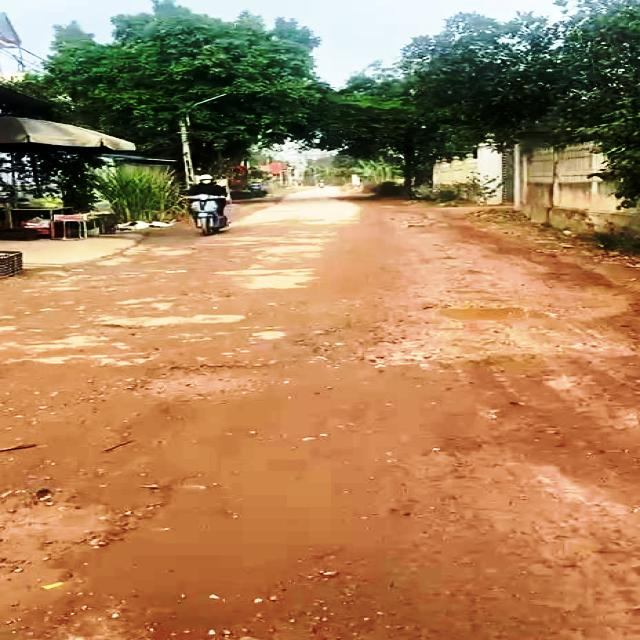pothole: (136, 362, 276, 397), (360, 336, 440, 369), (428, 306, 544, 325)
